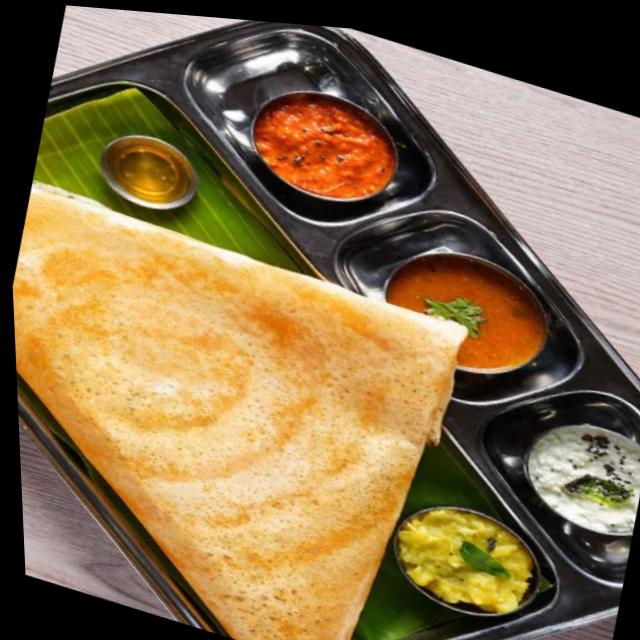CURRY: (395, 505, 535, 615)
DOSA: (13, 182, 465, 640)
RED CHUTNEY: (256, 90, 391, 197)
SAMBAR: (389, 253, 541, 367)
WHITE CHUTNEY: (533, 419, 640, 533)
